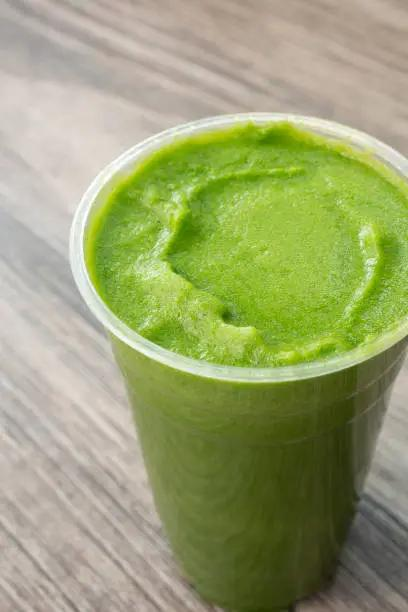glass: (69, 111, 408, 609)
